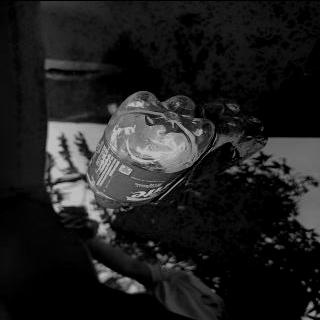bottle: (84, 88, 218, 208)
